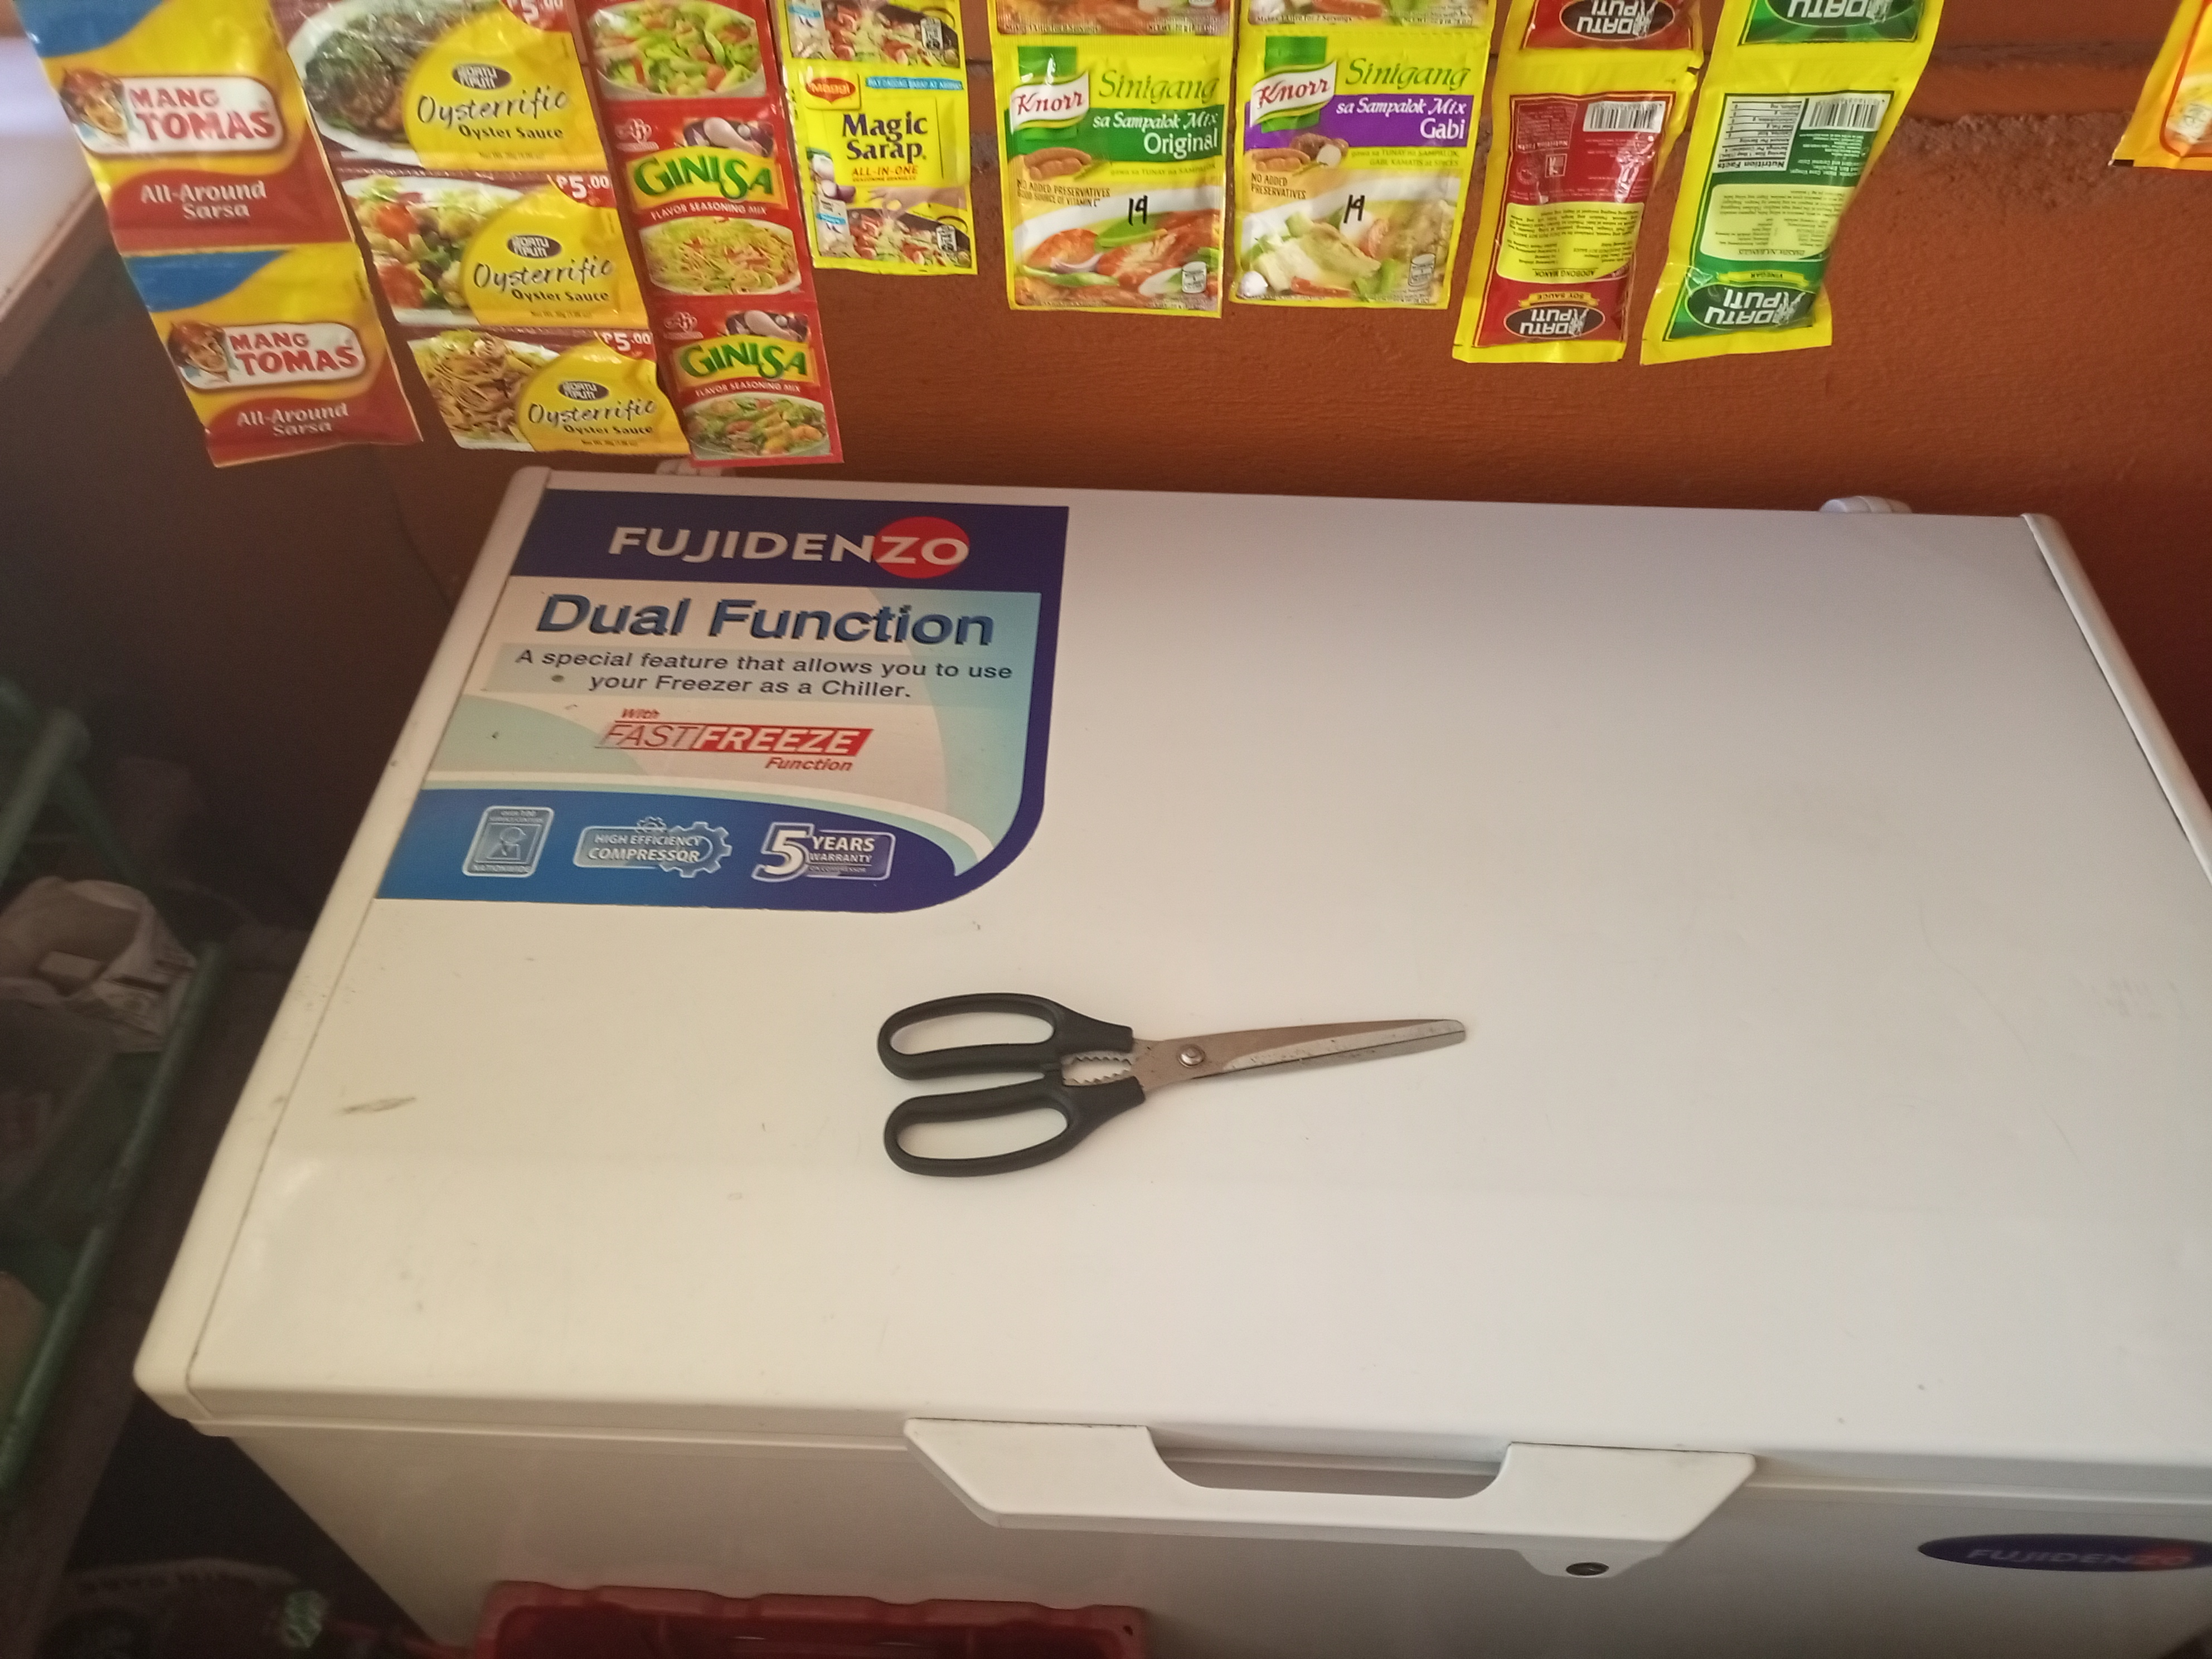scissor: (883, 997, 1470, 1176)
